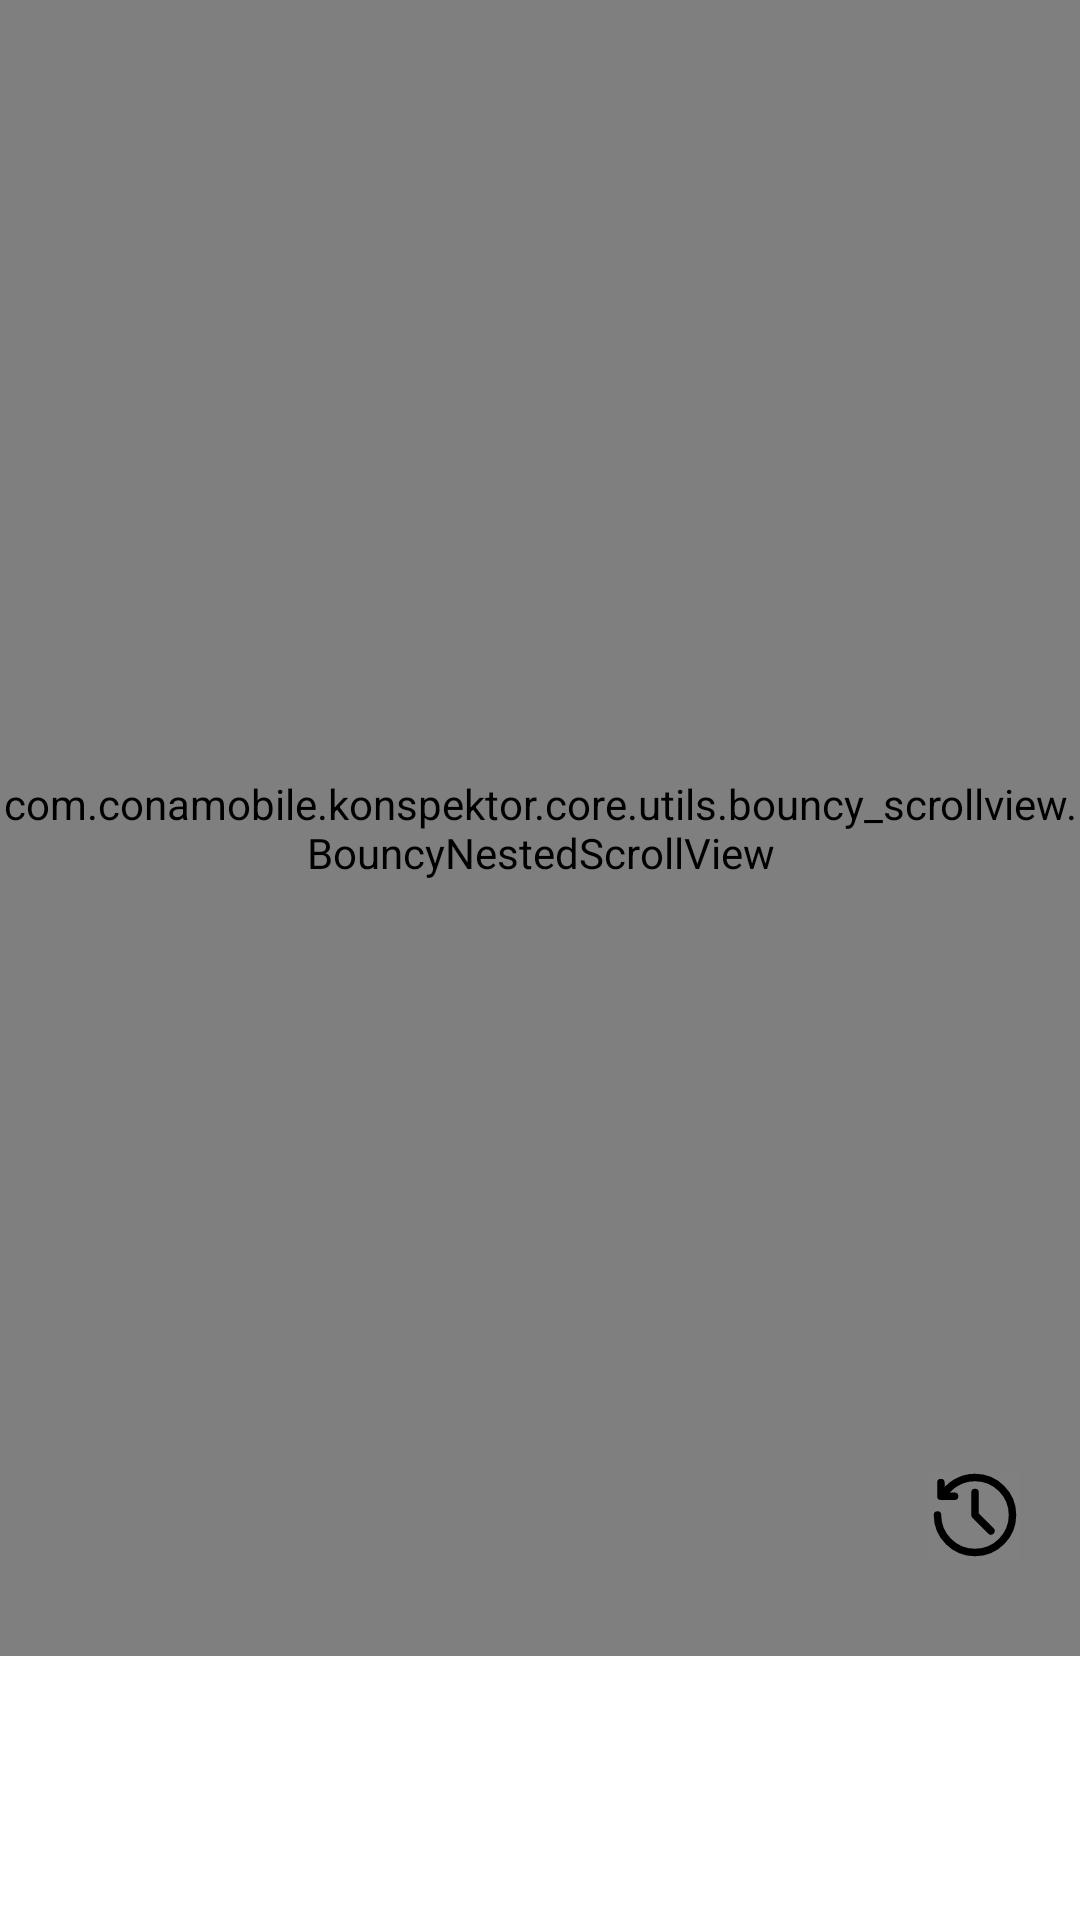

Screen size 1080w x 1920h. Icon name, then its box in pixels as (x1, y1, x2, y2):
history: (933, 1473, 1017, 1557)
